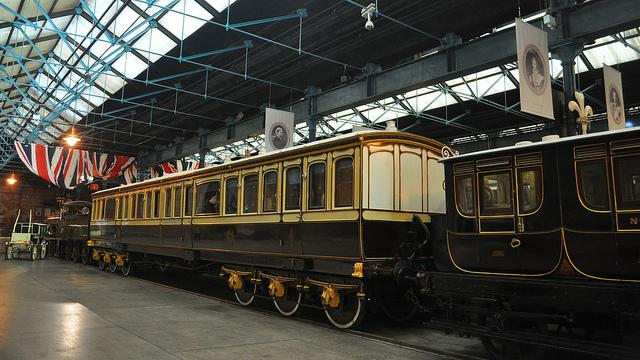Train: (89, 130, 640, 356)
